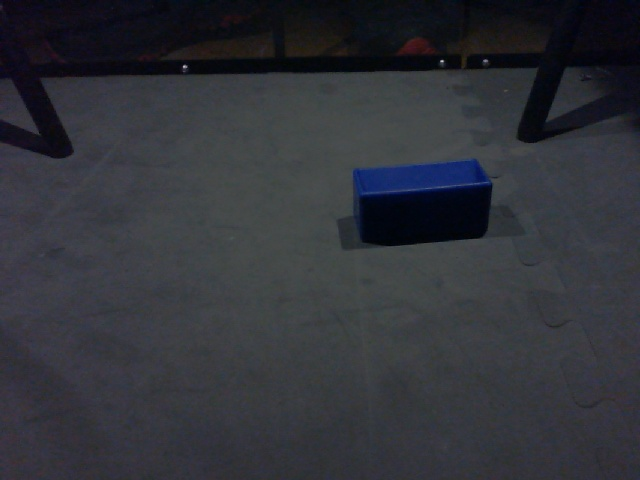BlueSample: (349, 157, 494, 248)
